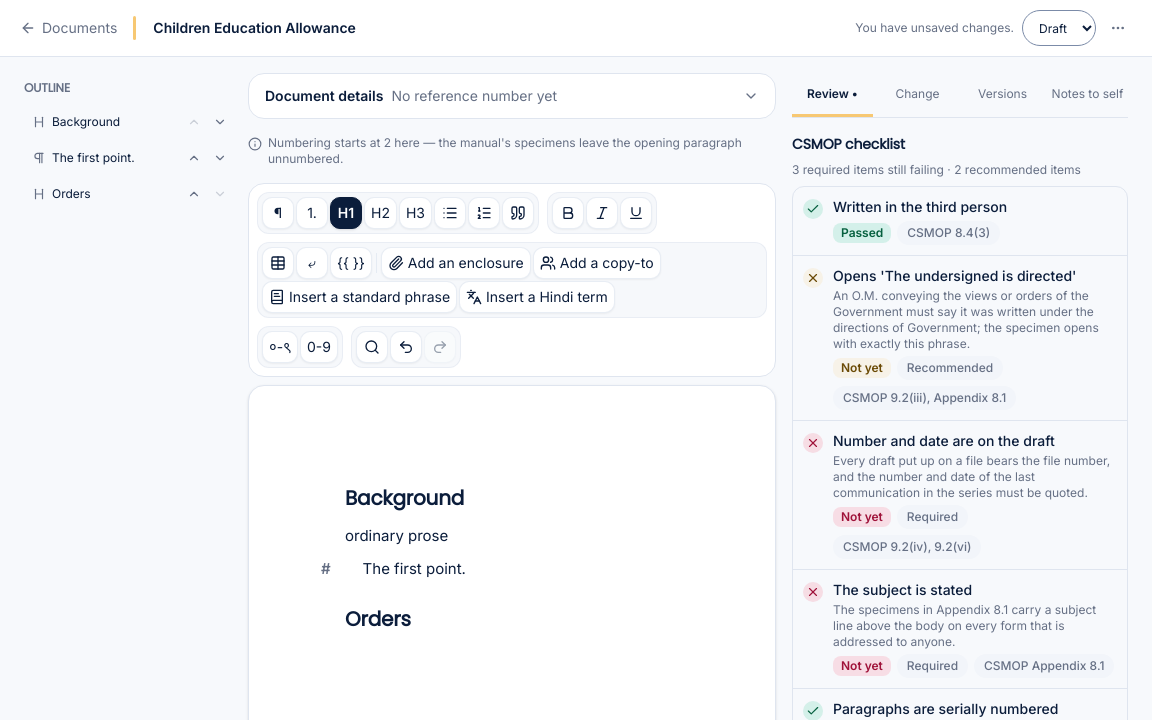
Test: the focus bar › puts the page’s eight actions in the shell’s ONE ⋯ menu
The image size is (1152, 720).
Expected: the field named "Document body" is shown, [345, 484, 466, 633]
Click the button named "More actions".
click(1118, 28)  # box [1100, 10, 1136, 46]
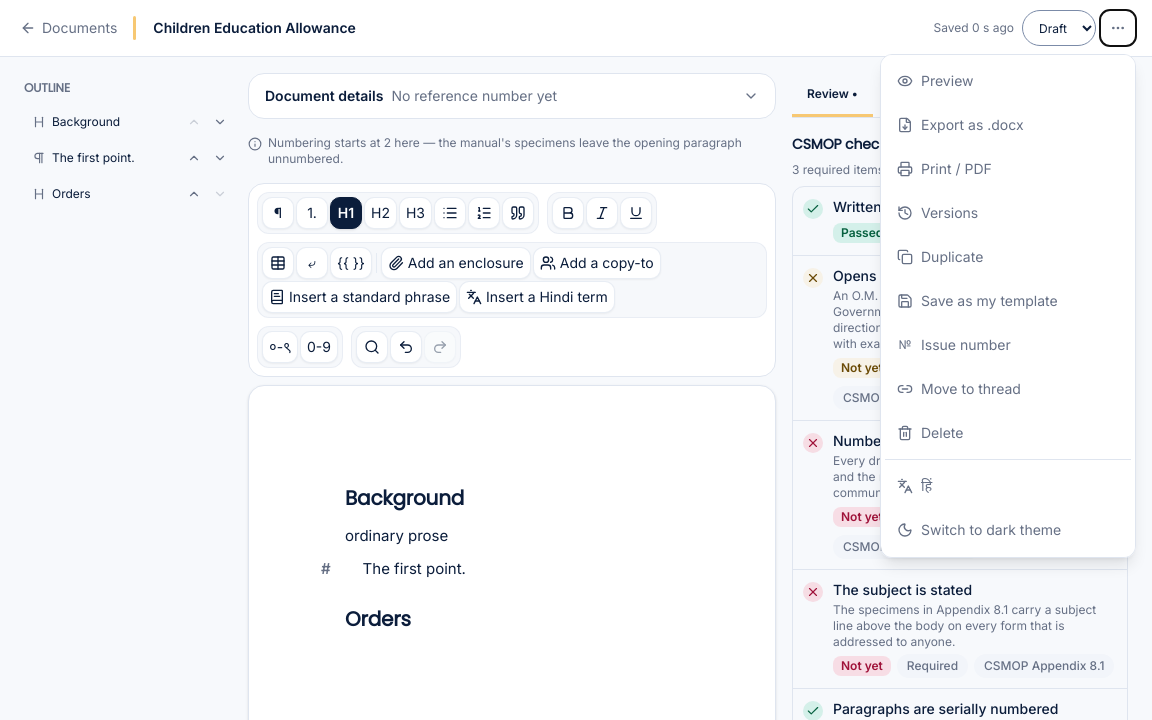
Expected: the button "Export as .docx" is shown, [885, 103, 1131, 147]
Expected: the link "Print / PDF" is shown, [897, 160, 992, 177]
Expected: the button "Versions" is shown, [885, 191, 1131, 235]
